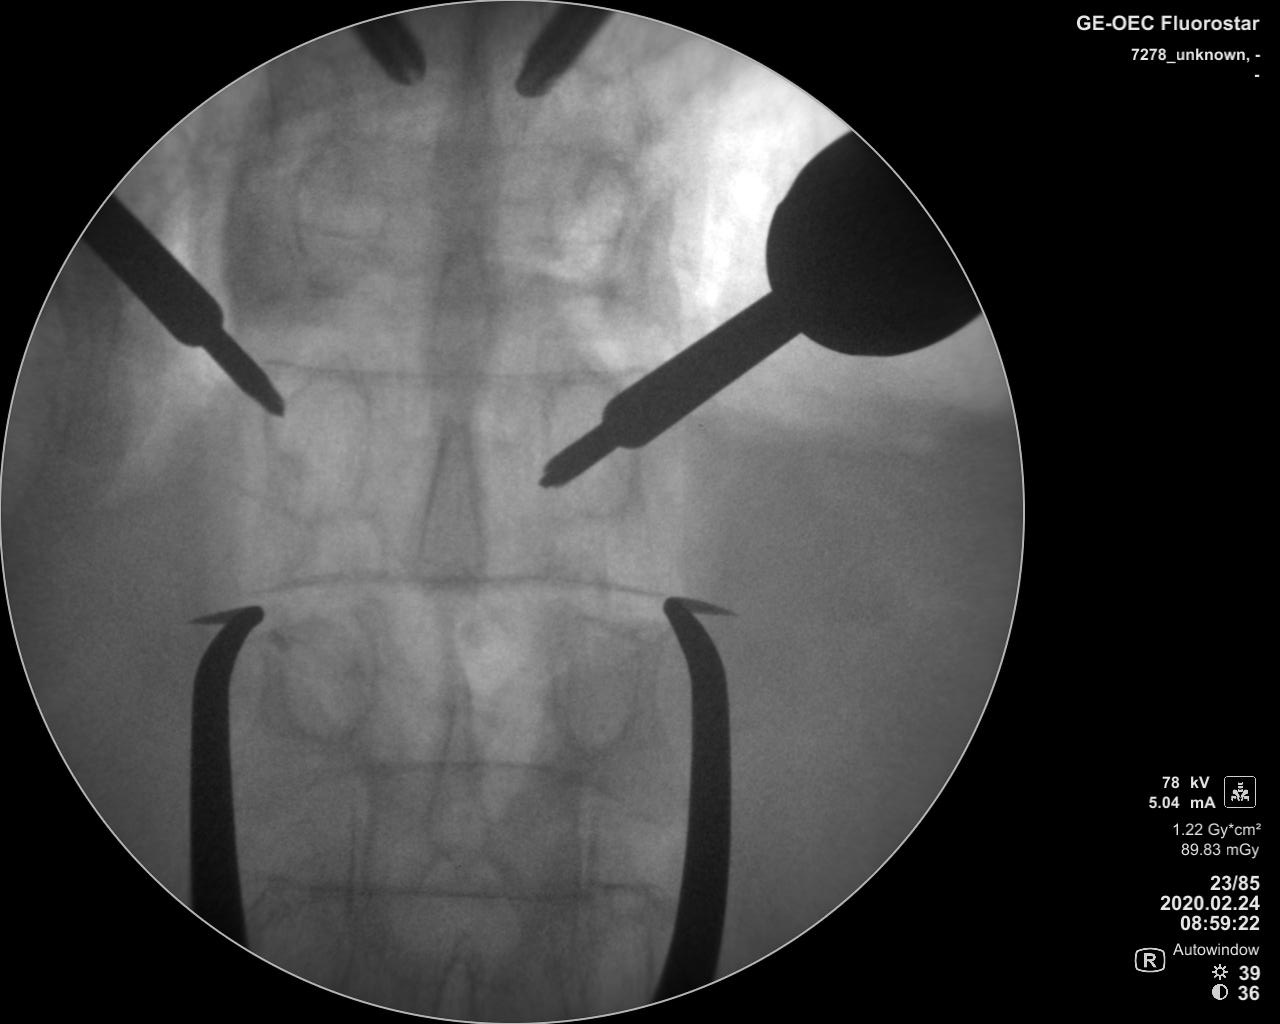eyes: (263, 379, 372, 523), (293, 134, 385, 298), (277, 604, 378, 748), (533, 154, 627, 290), (544, 381, 637, 518), (545, 614, 633, 754)
line: (264, 349, 622, 391), (238, 567, 661, 600), (285, 872, 596, 912), (286, 755, 599, 788)
nose: (420, 677, 492, 872), (415, 412, 491, 596), (435, 38, 501, 229), (420, 232, 498, 385)
